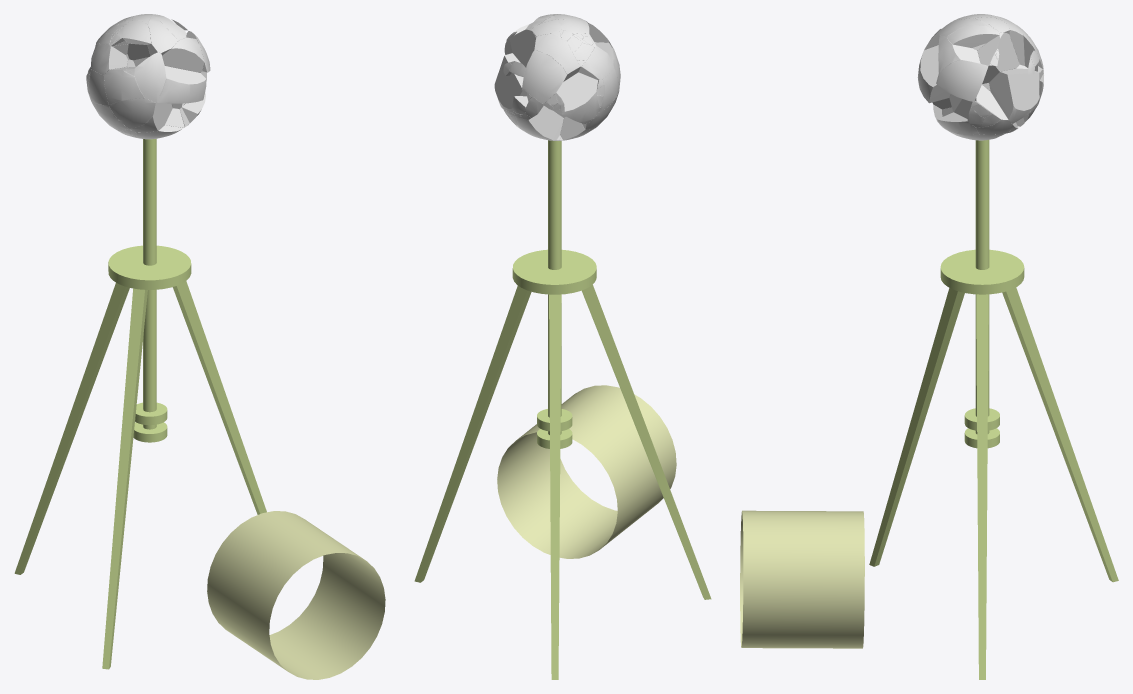
The model's file is lamp_abondoned.glb.
The picture shows the model from 3 angles, left to right: view 1: azimuth 30°, elevation 25°; view 2: azimuth 150°, elevation 25°; view 3: azimuth 270°, elevation 25°; orthographic projection.
Parts seen in each view (by area): view 1: Cylinder.004, Cube.003, Cube.002, Cylinder.001, Cube, Cylinder, Sphere_cell.012, Sphere_cell.042, Sphere_cell.050, Sphere_cell.054, Sphere_cell.028, Sphere_cell.011 (+4 smaller); view 2: Cylinder.004, Cube.002, Cube, Cube.003, Cylinder, Cylinder.001, Sphere_cell.069, Sphere_cell.008, Sphere_cell.052, Sphere_cell.009, Sphere_cell.036, Sphere_cell.011 (+4 smaller); view 3: Cylinder.004, Cube, Cube.003, Cube.002, Cylinder, Cylinder.001, Sphere_cell.036, Sphere_cell.061, Sphere_cell.004, Sphere_cell.012, Sphere_cell.001, Sphere_cell.013 (+2 smaller).
Boxes of the visible parts, <box> form: Cylinder.004: <box>207,511,385,679</box>; Cube.003: <box>102,288,147,669</box>; Cube.002: <box>14,282,129,574</box>; Cylinder.001: <box>143,138,156,429</box>; Cube: <box>172,281,266,514</box>; Cylinder: <box>108,245,191,289</box>; Sphere_cell.012: <box>156,66,206,103</box>; Sphere_cell.042: <box>134,52,166,102</box>; Sphere_cell.050: <box>162,37,204,72</box>; Sphere_cell.054: <box>104,67,144,104</box>; Sphere_cell.028: <box>109,98,155,128</box>; Sphere_cell.011: <box>91,44,127,75</box>; Cylinder.004: <box>497,385,676,558</box>; Cube.002: <box>549,294,561,679</box>; Cube: <box>414,285,531,582</box>; Cube.003: <box>582,284,711,599</box>; Cylinder: <box>512,249,596,294</box>; Cylinder.001: <box>548,140,561,434</box>; Sphere_cell.069: <box>556,72,600,123</box>; Sphere_cell.008: <box>522,50,567,103</box>; Sphere_cell.052: <box>534,34,580,81</box>; Sphere_cell.009: <box>515,105,563,140</box>; Sphere_cell.036: <box>494,53,526,112</box>; Sphere_cell.011: <box>578,46,614,79</box>; Cylinder.004: <box>740,510,864,648</box>; Cube: <box>976,294,988,679</box>; Cube.003: <box>869,288,964,566</box>; Cube.002: <box>1002,287,1118,582</box>; Cylinder: <box>940,249,1024,294</box>; Cylinder.001: <box>975,140,989,433</box>; Sphere_cell.036: <box>989,68,1039,123</box>; Sphere_cell.061: <box>936,60,988,101</box>; Sphere_cell.004: <box>977,32,1019,83</box>; Sphere_cell.012: <box>917,45,950,103</box>; Sphere_cell.001: <box>954,85,1012,134</box>; Sphere_cell.013: <box>947,25,999,47</box>.
Size of the model in its own units: 5.23 by 12.35 by 7.14.
